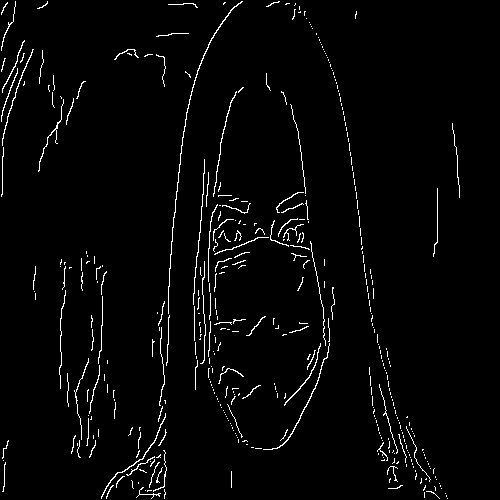mask: (207, 249, 328, 451)
